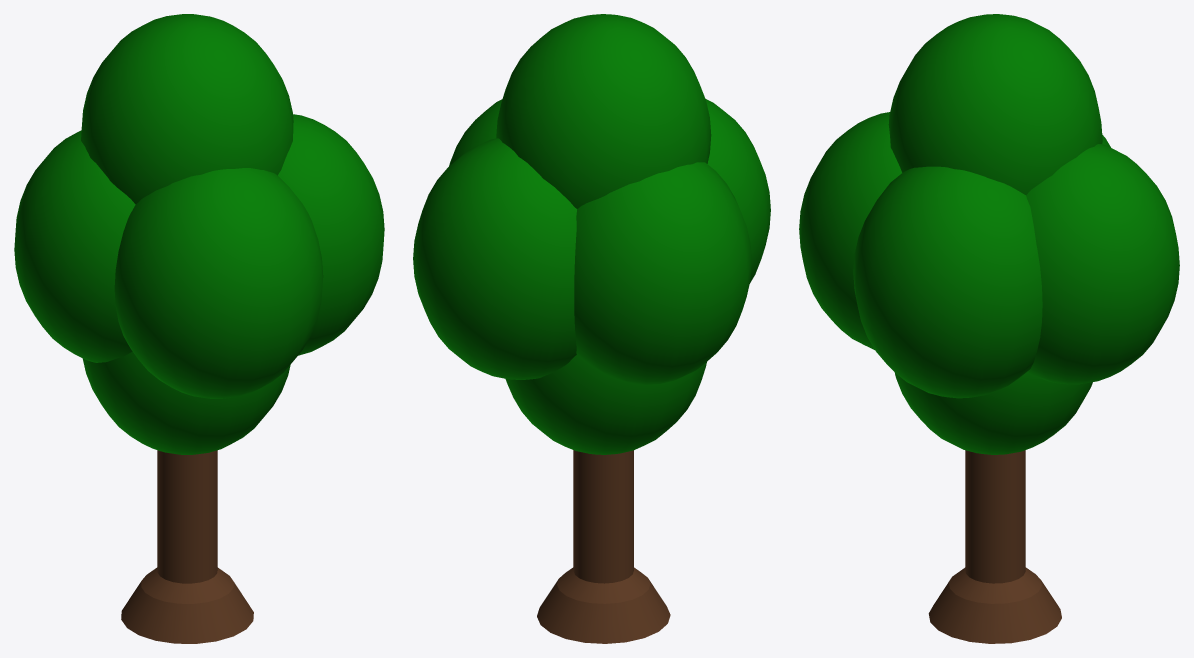
The model's file is arbol3.fbx.
The picture shows the model from 3 angles, left to right: view 1: azimuth 30°, elevation 25°; view 2: azimuth 150°, elevation 25°; view 3: azimuth 270°, elevation 25°; orthographic projection.
Visible parts, largest first — view 1: pSphere56; view 2: pSphere56; view 3: pSphere56.
Boxes of the visible parts, bbox=[...] form: pSphere56: bbox=[14, 14, 384, 643]; pSphere56: bbox=[413, 14, 770, 643]; pSphere56: bbox=[799, 14, 1179, 643].
Bounding box in the file's own units: 643 × 1168 × 679.
